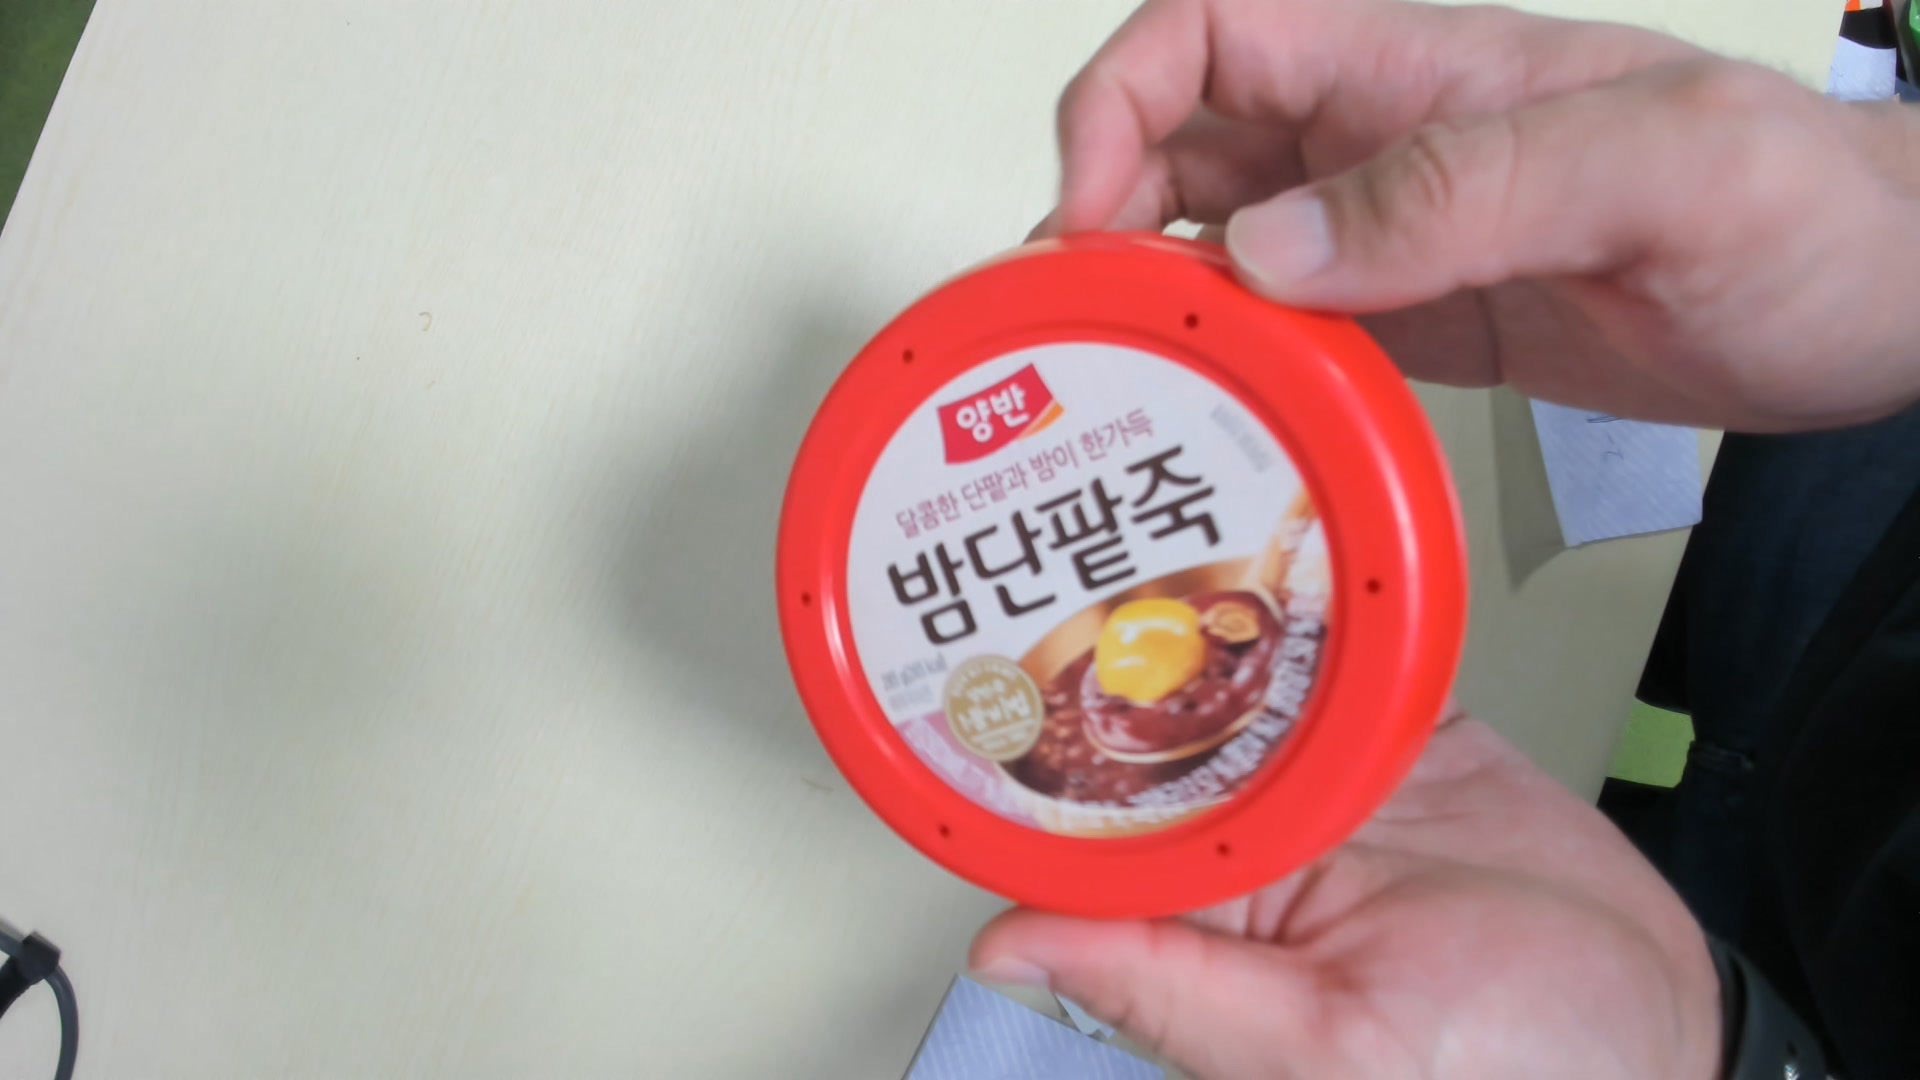InstantMeals_200_299g_NonHalal_NonHealthy: (775, 233, 1472, 930)
